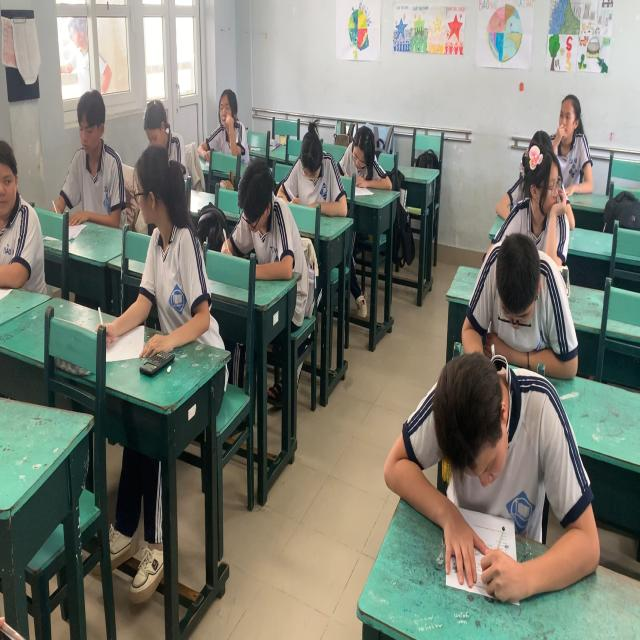cheating: (126, 150, 218, 343), (519, 146, 570, 229)
not_cheating: (407, 350, 562, 578), (482, 225, 562, 344), (235, 156, 298, 278), (286, 123, 338, 225), (65, 81, 116, 163), (548, 91, 591, 153), (344, 119, 376, 194), (134, 101, 172, 150), (210, 95, 241, 153)
